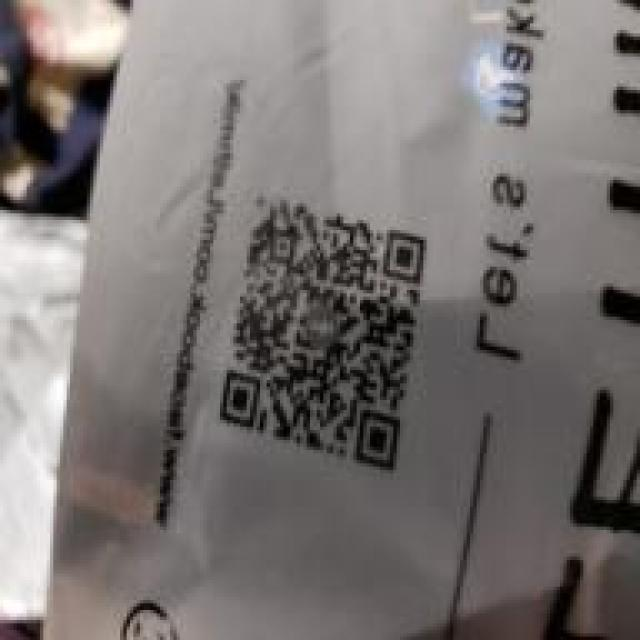qr_code: (219, 193, 427, 471)
